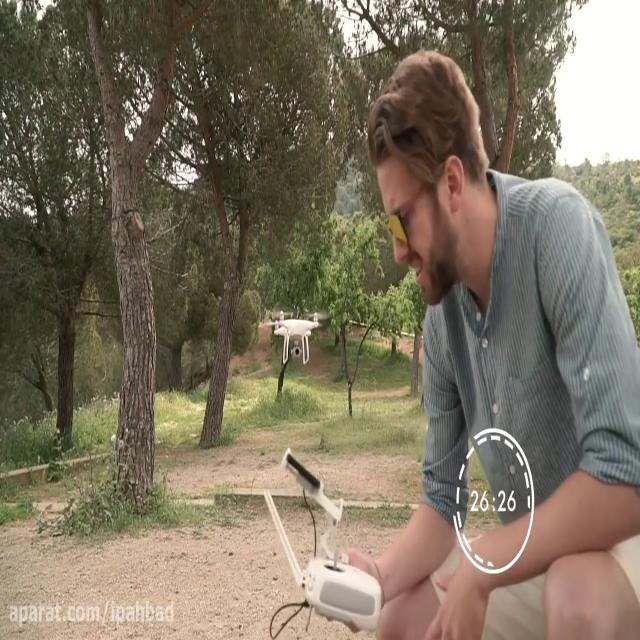drone: (264, 303, 334, 366)
